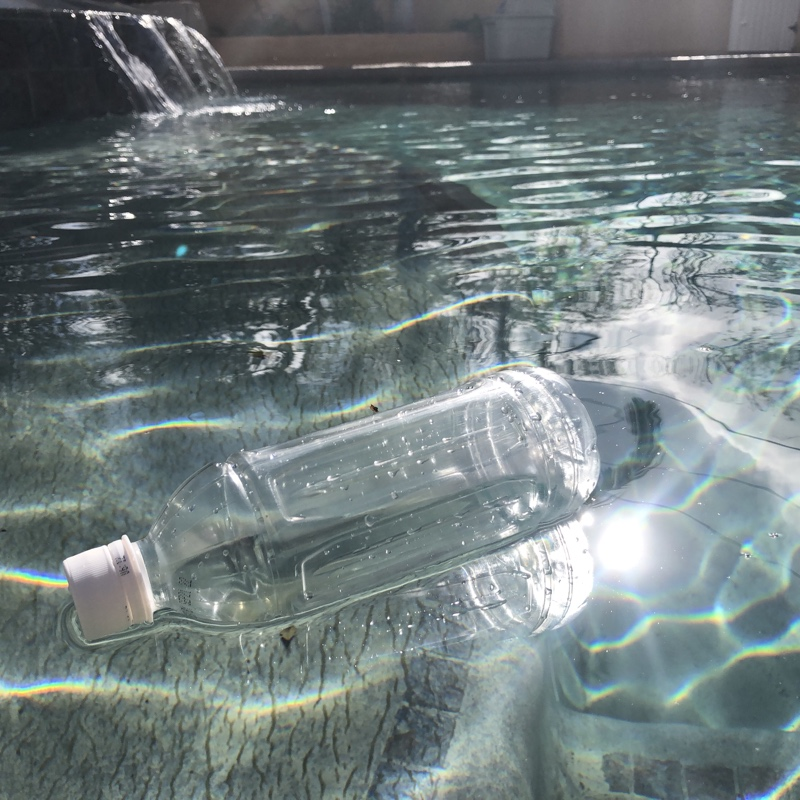Plastic Bottle: (58, 357, 605, 644)
